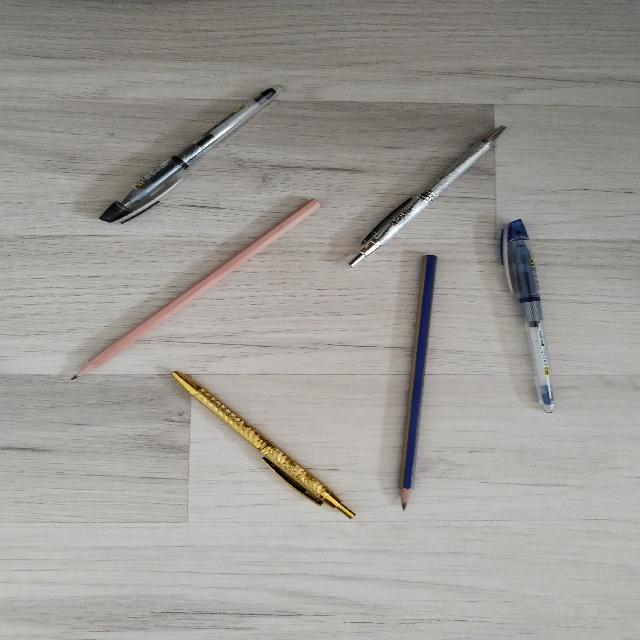pen: (100, 88, 277, 222), (500, 219, 553, 412)
pencil: (72, 199, 319, 378), (400, 255, 436, 509)
signature pen: (173, 371, 354, 517), (349, 126, 504, 266)
